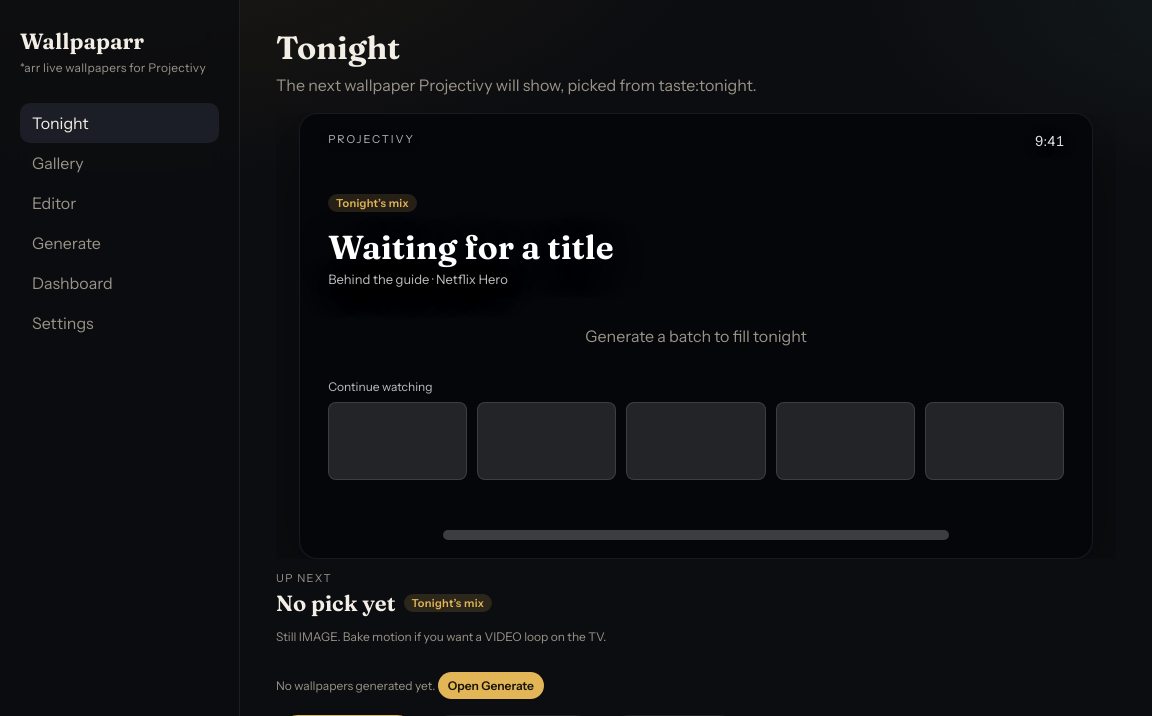
Test case: App smoke › clamps generate limit to 200 before posting a job
Click the button "Generate". click: {"x": 120, "y": 243}
box: [20, 223, 219, 263]
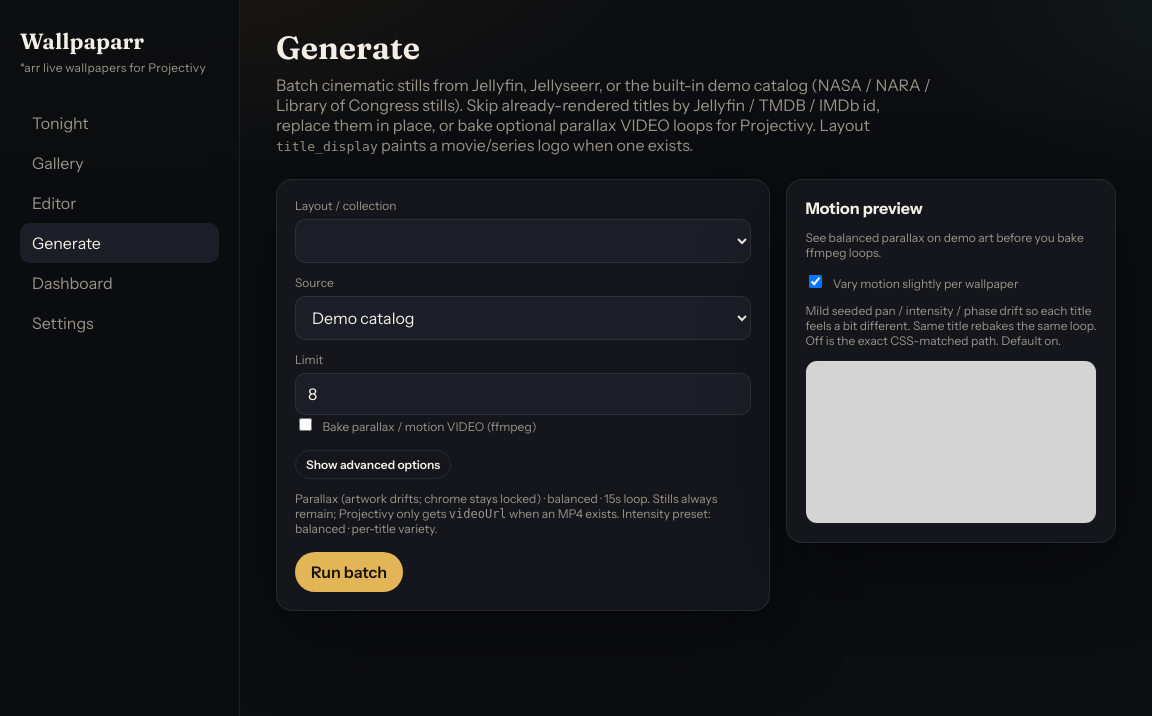
Check: the heading "Generate" is shown, box [276, 28, 420, 67]
Replace the text in the number field showing "8" with "5000". click: {"x": 523, "y": 394}
box: [295, 373, 751, 415]
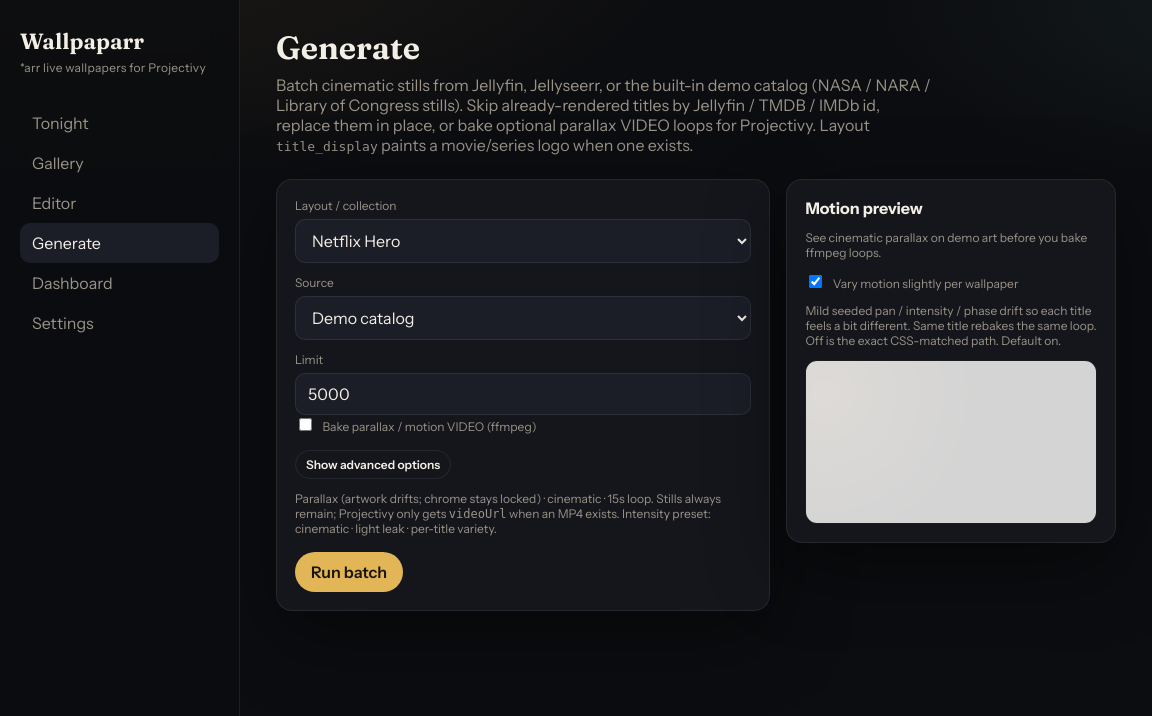
Click the button "Run batch". click: {"x": 349, "y": 572}
box: [295, 552, 403, 592]
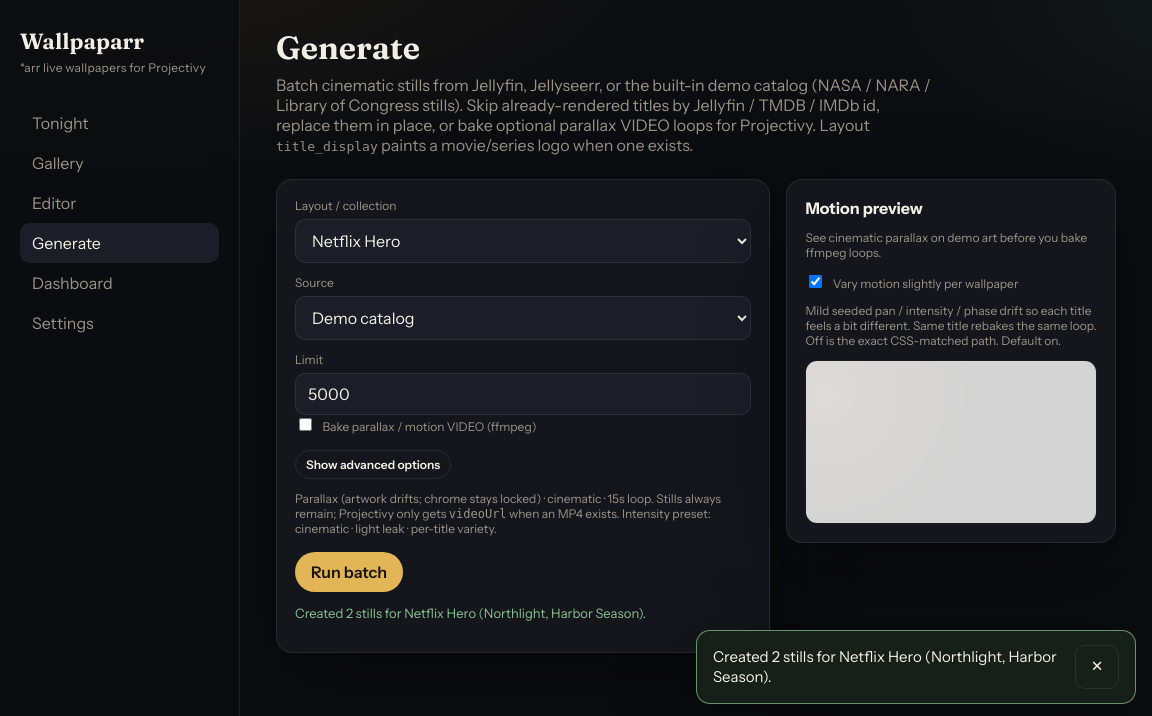
Check: the text "Created 2 stills" below "· light leak" is shown, box [295, 605, 646, 621]
